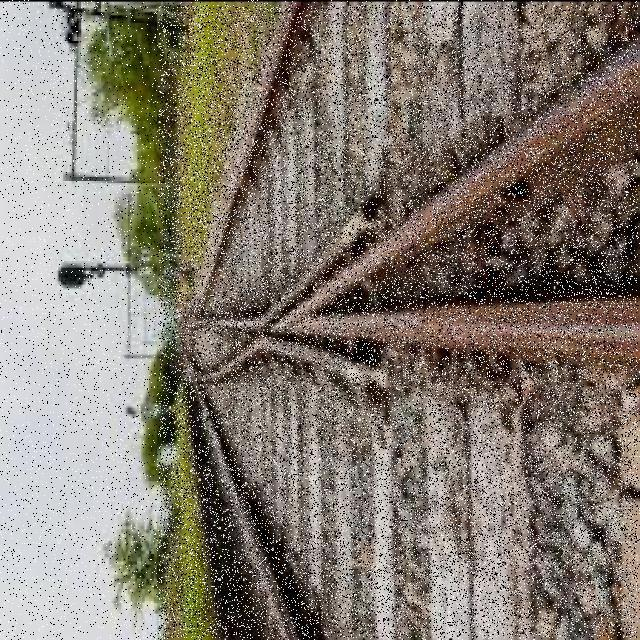rail: (159, 5, 638, 638)
